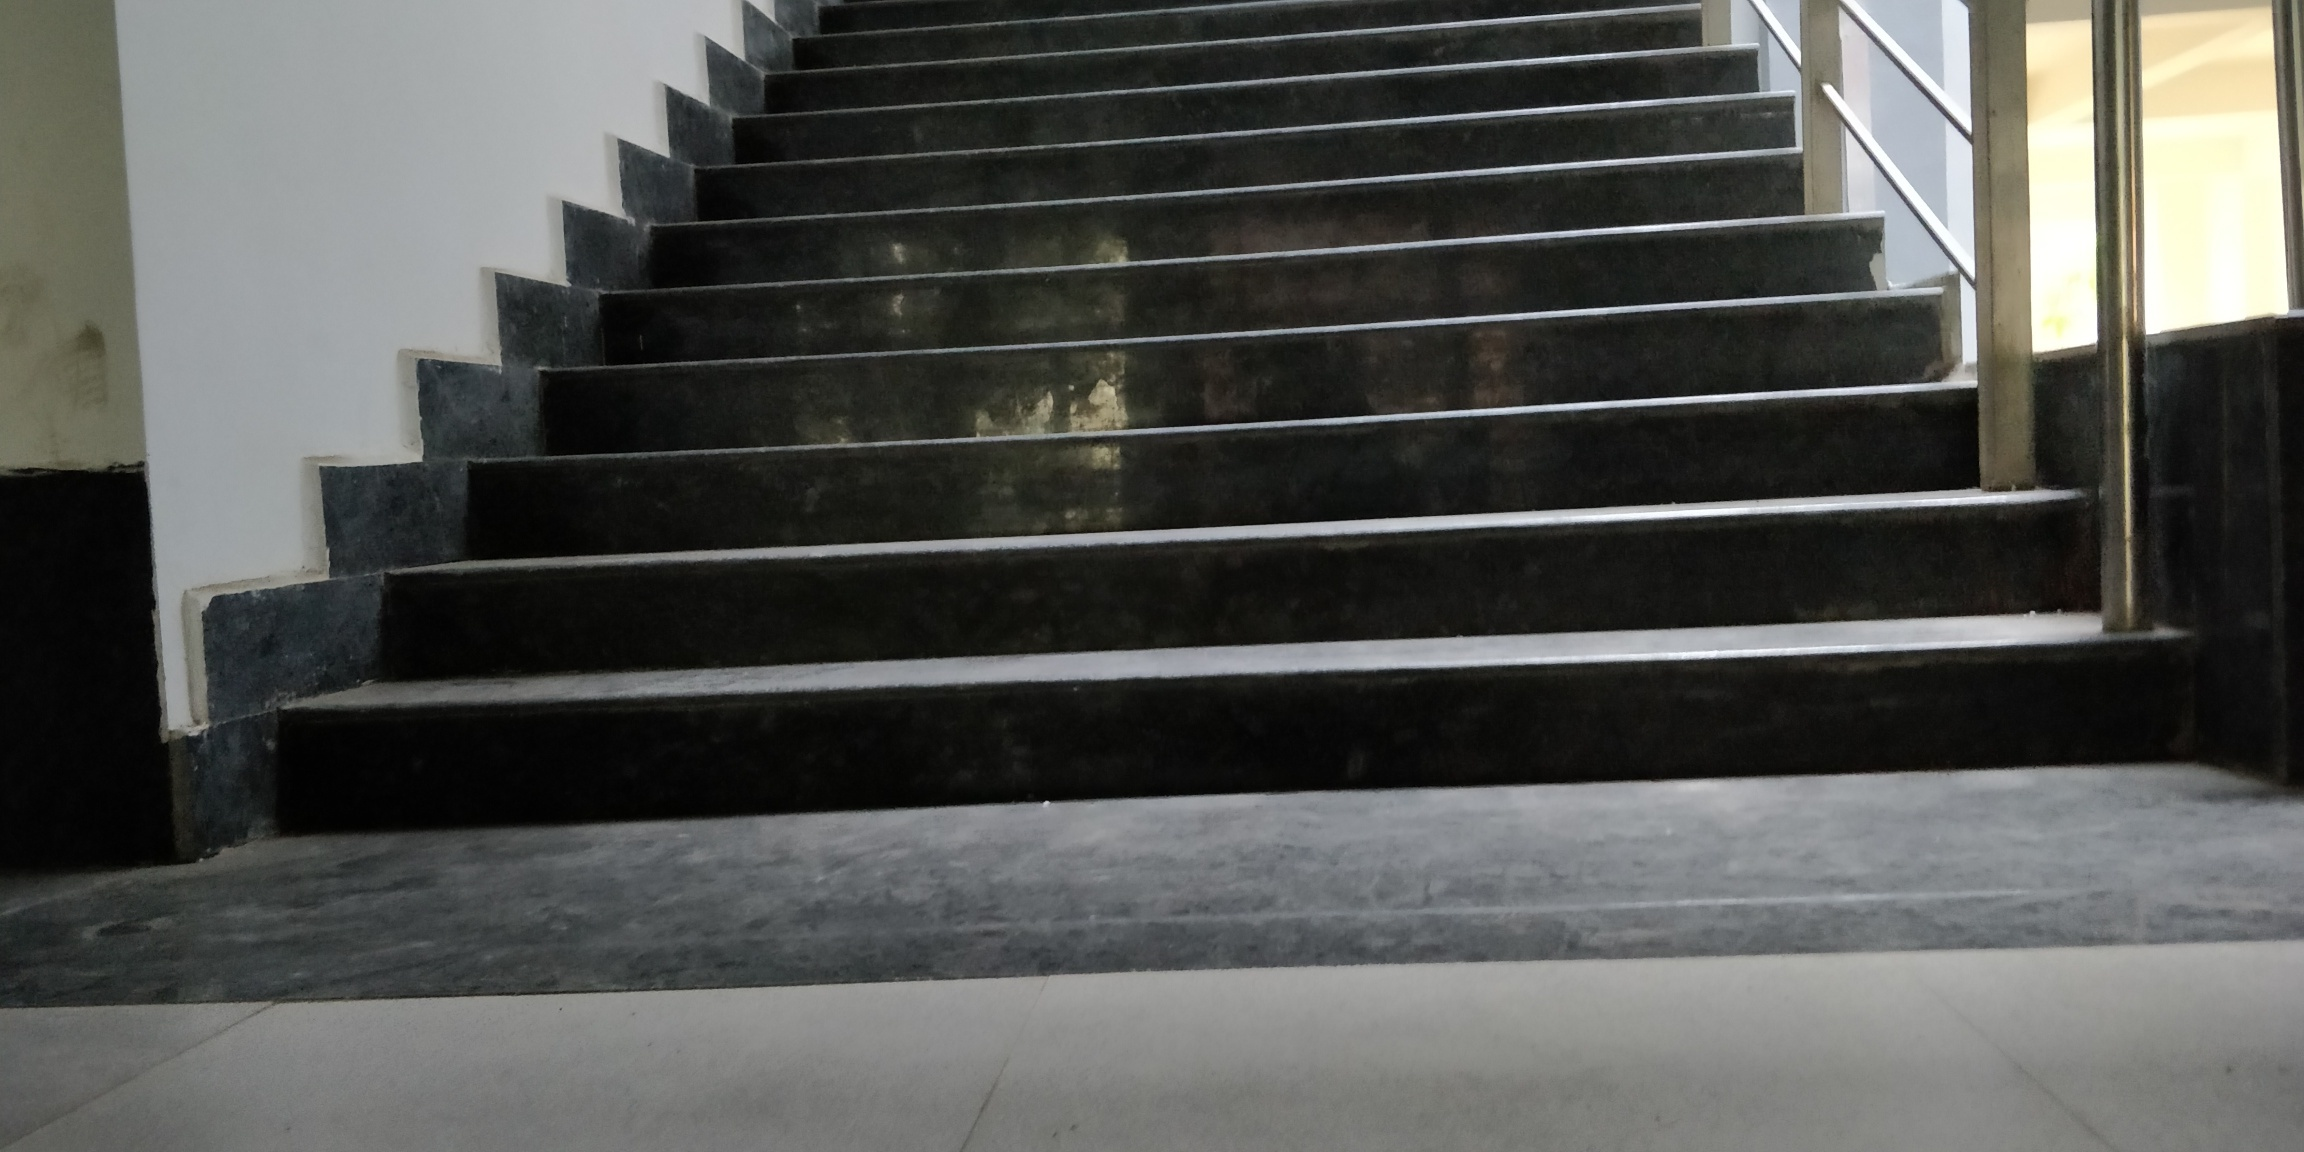stairs_up: (334, 44, 2225, 808)
